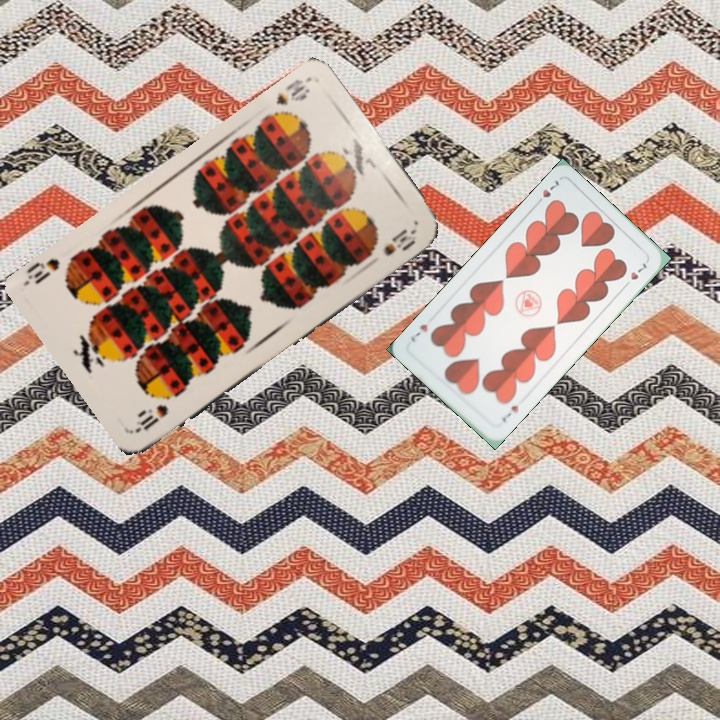H7: (531, 176, 561, 209), (498, 401, 521, 425)
S10: (272, 74, 313, 108), (132, 400, 171, 435)
